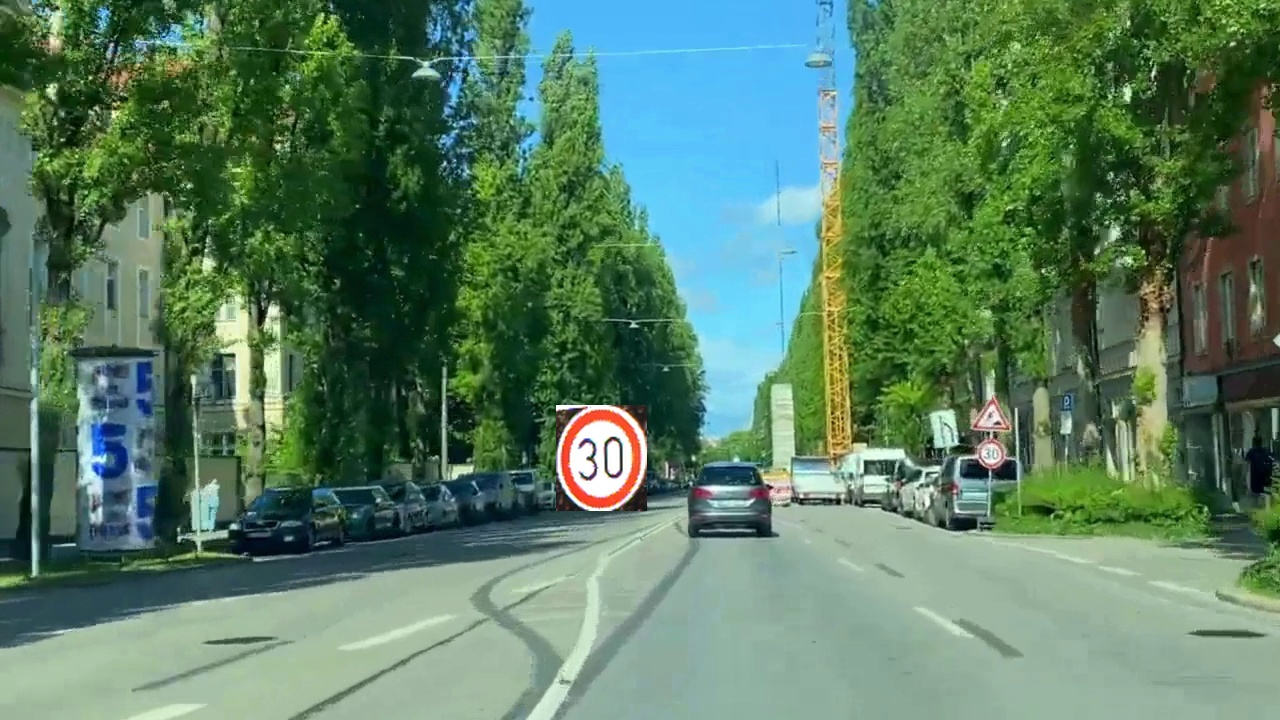Speed 30: (556, 405, 647, 511)
